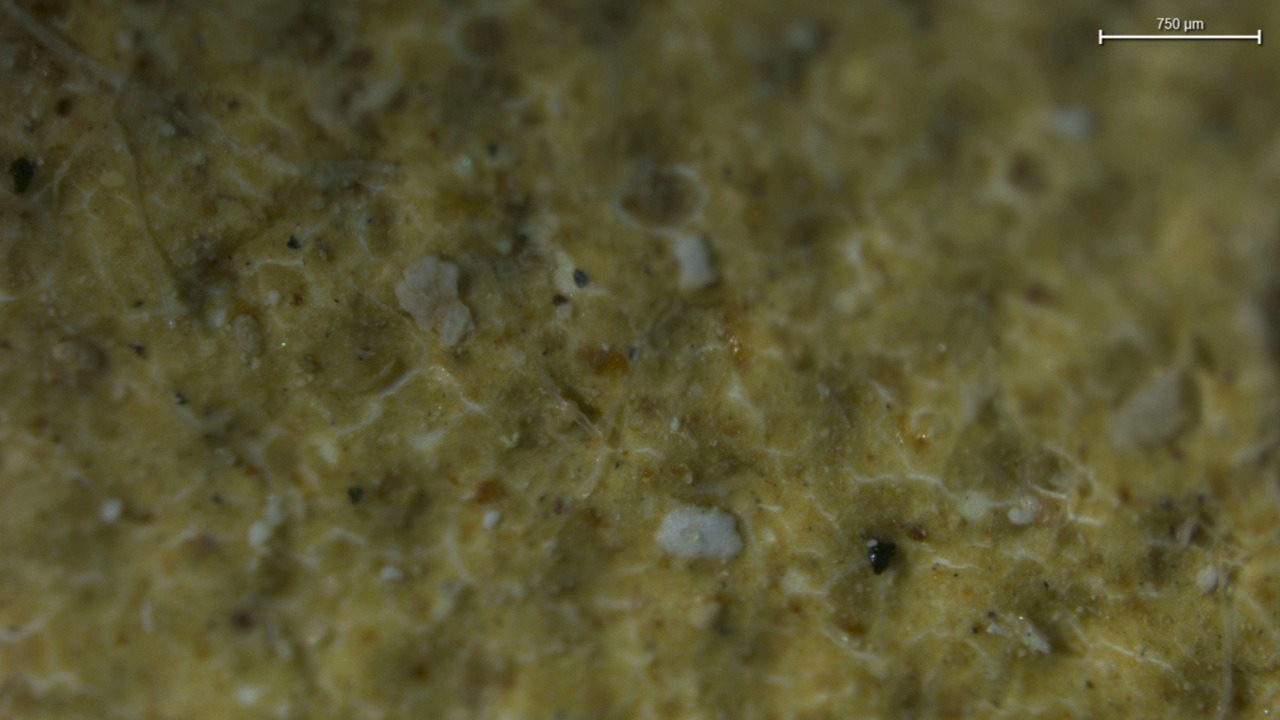microplastic_fragment: (395, 256, 472, 346), (654, 505, 743, 559)
